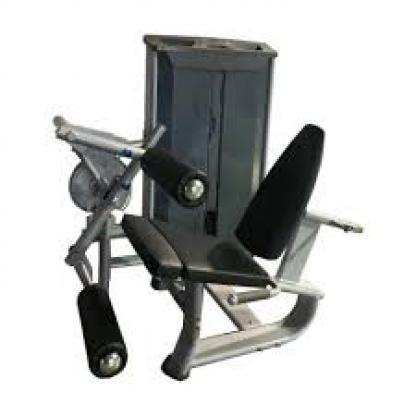leg extension: (41, 24, 363, 389)
